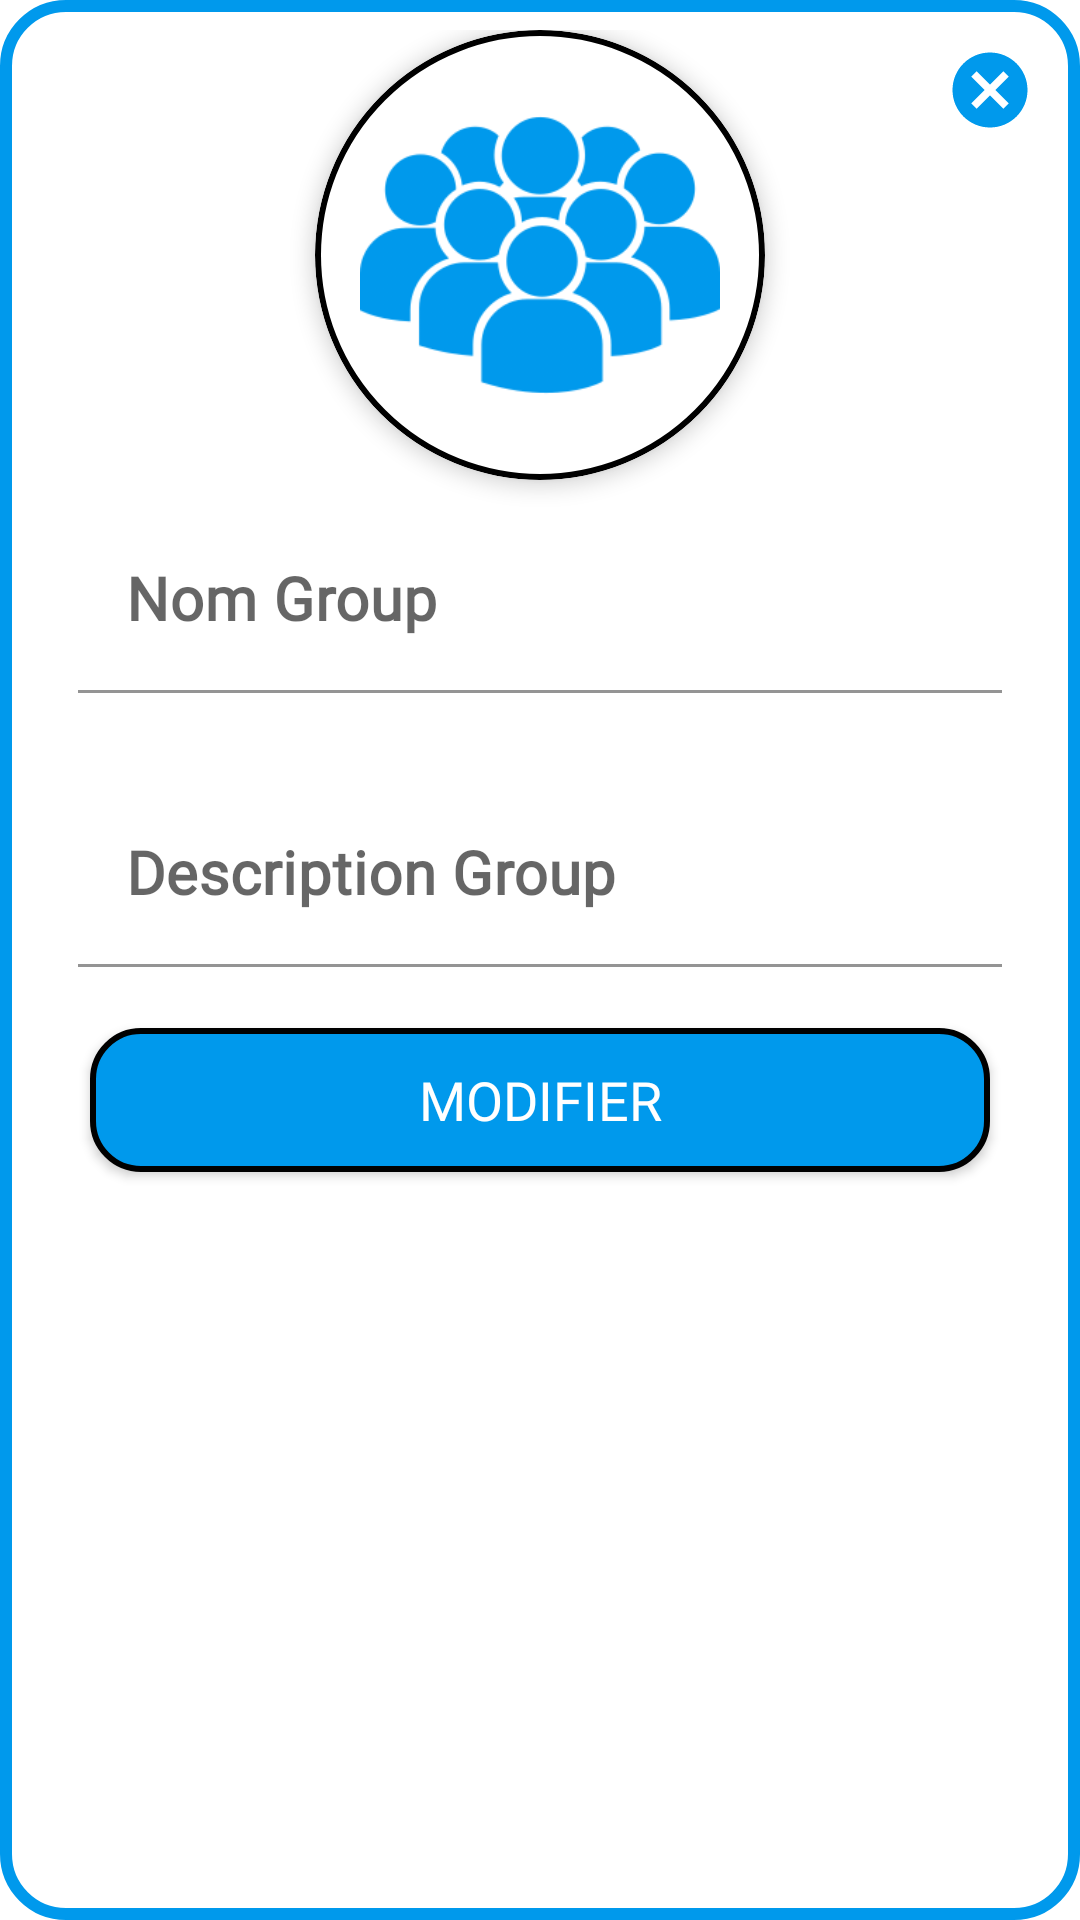

Screen size 1080×1920. Icon name, then its box in pixels as region(x1, y1, x2, y2):
cancel: region(952, 52, 1028, 128)
